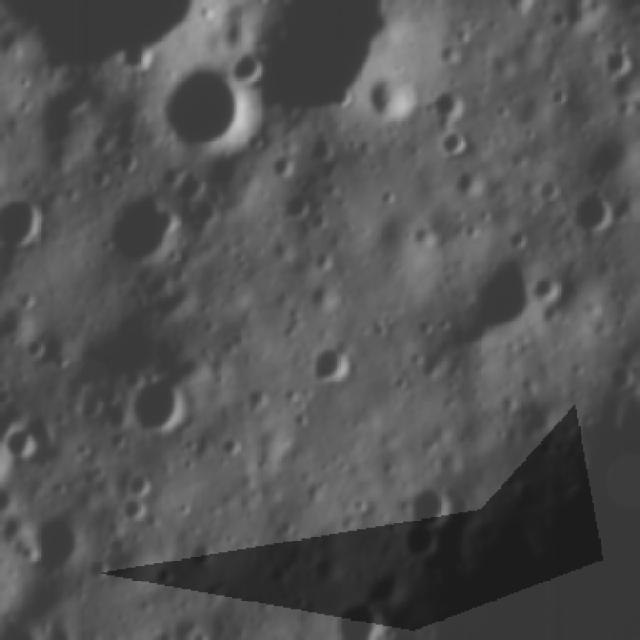crater: (148, 64, 249, 156), (461, 244, 550, 344), (103, 183, 192, 277), (18, 502, 97, 572), (126, 369, 200, 438), (306, 327, 366, 396), (0, 509, 29, 640), (573, 183, 625, 240), (0, 195, 49, 254), (369, 73, 422, 125), (424, 77, 478, 123), (404, 478, 454, 522), (220, 46, 268, 88), (0, 423, 48, 465), (598, 39, 640, 86), (397, 522, 446, 562), (430, 127, 478, 167), (365, 558, 407, 602), (272, 187, 318, 227), (123, 462, 157, 498), (114, 498, 146, 530), (500, 0, 540, 18), (0, 94, 3, 143)
